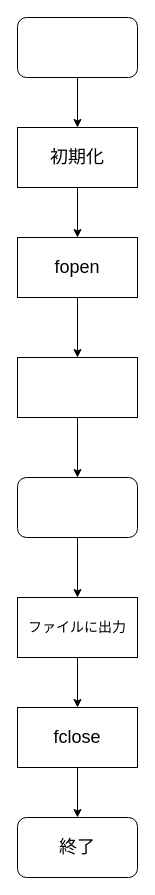
This 155x895 diagram has some shape labels left out. The shapes that lost their labels are listed below. From the top down, each one's centre as x and y in pixels, then its label:
At [77,47]: "開始".
At [77,387]: "fscanf".
At [77,507]: "総和と二乗の総和，平均，二乗の平均，分散，標準偏差 求める".
